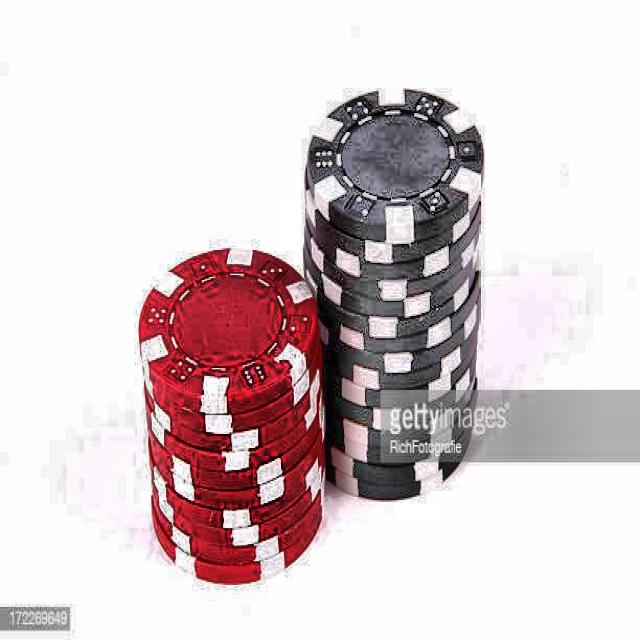Chip: (287, 81, 497, 506), (120, 228, 331, 590)
